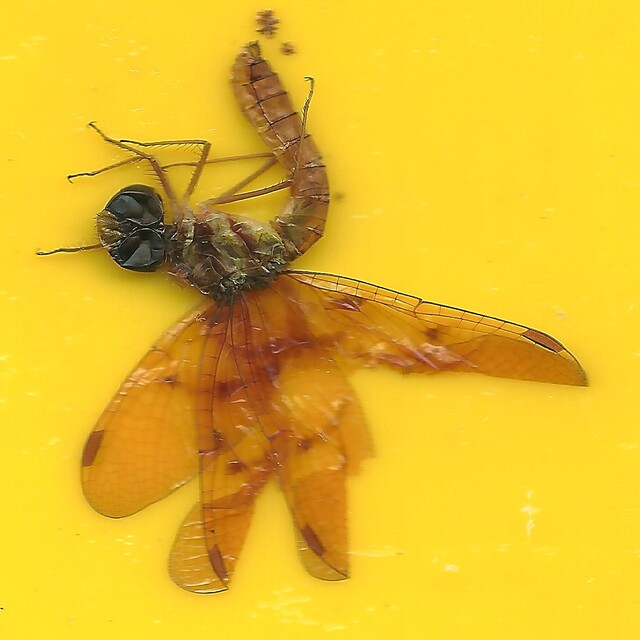Odonata: (51, 45, 589, 595)
